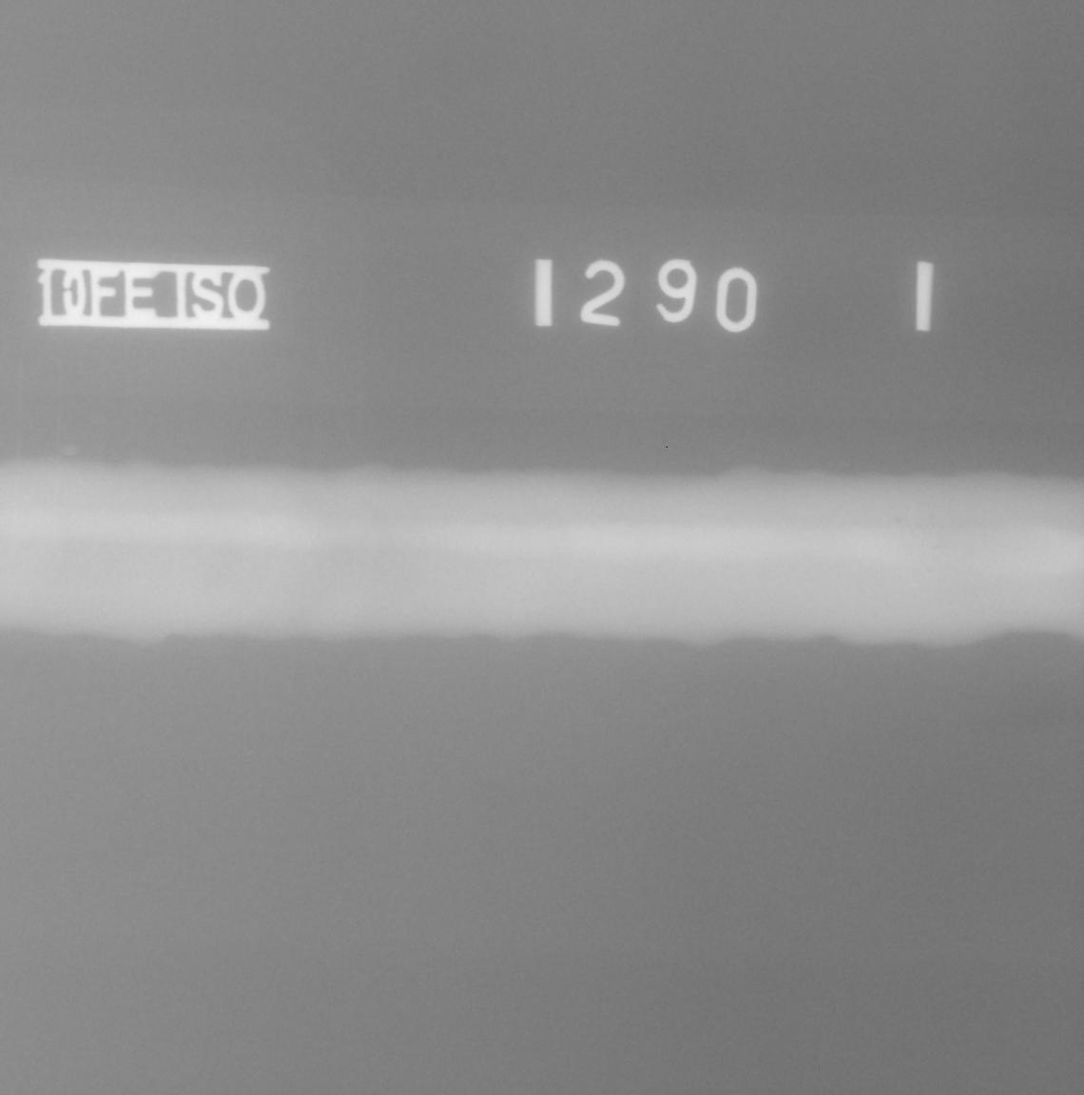Inclusion: (934, 545, 949, 550)
Pore/Porosity: (929, 511, 937, 520), (895, 516, 901, 524)
